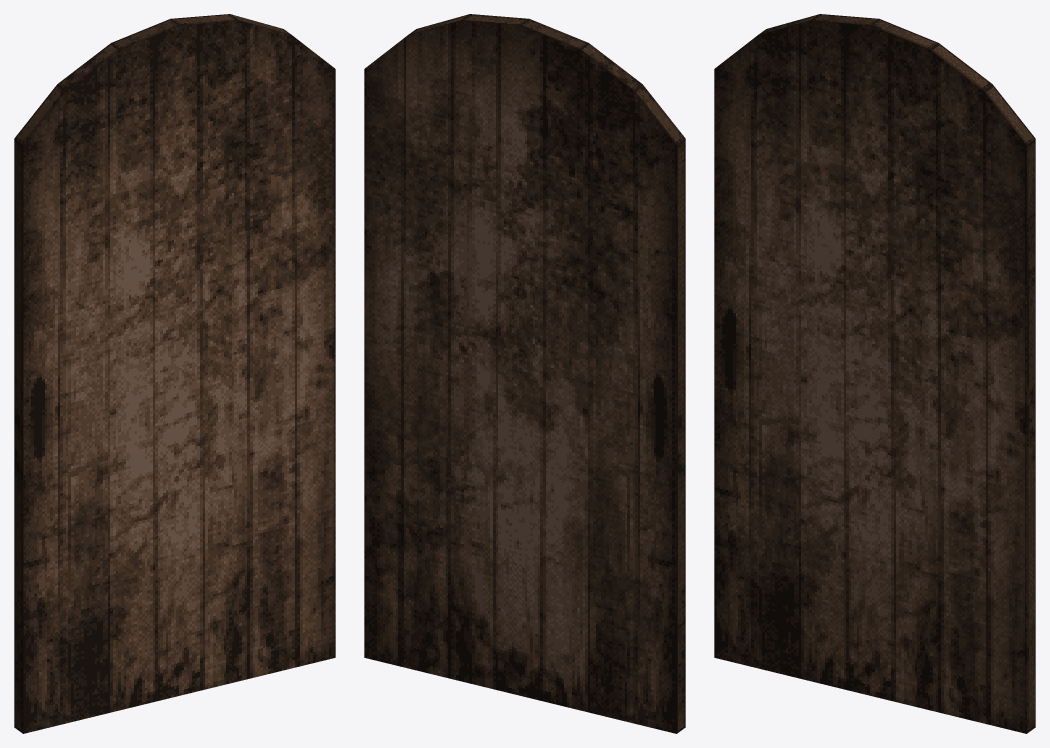
The model's file is mansion-basement-door.glb.
3 renders of one model, left to right at view 1: azimuth 30°, elevation 25°; view 2: azimuth 150°, elevation 25°; view 3: azimuth 330°, elevation 25°, orthographic.
Visible parts, largest first — view 1: mansion-basement_door-col; view 2: mansion-basement_door-col; view 3: mansion-basement_door-col.
Part boxes in pixels (x1,y1,x2,y2): mansion-basement_door-col: (14,14,335,733); mansion-basement_door-col: (364,14,685,733); mansion-basement_door-col: (714,14,1035,733).
Size of the model in its own units: 1 by 2.05 by 0.05.
Materials: 1 (1 with a texture image).
